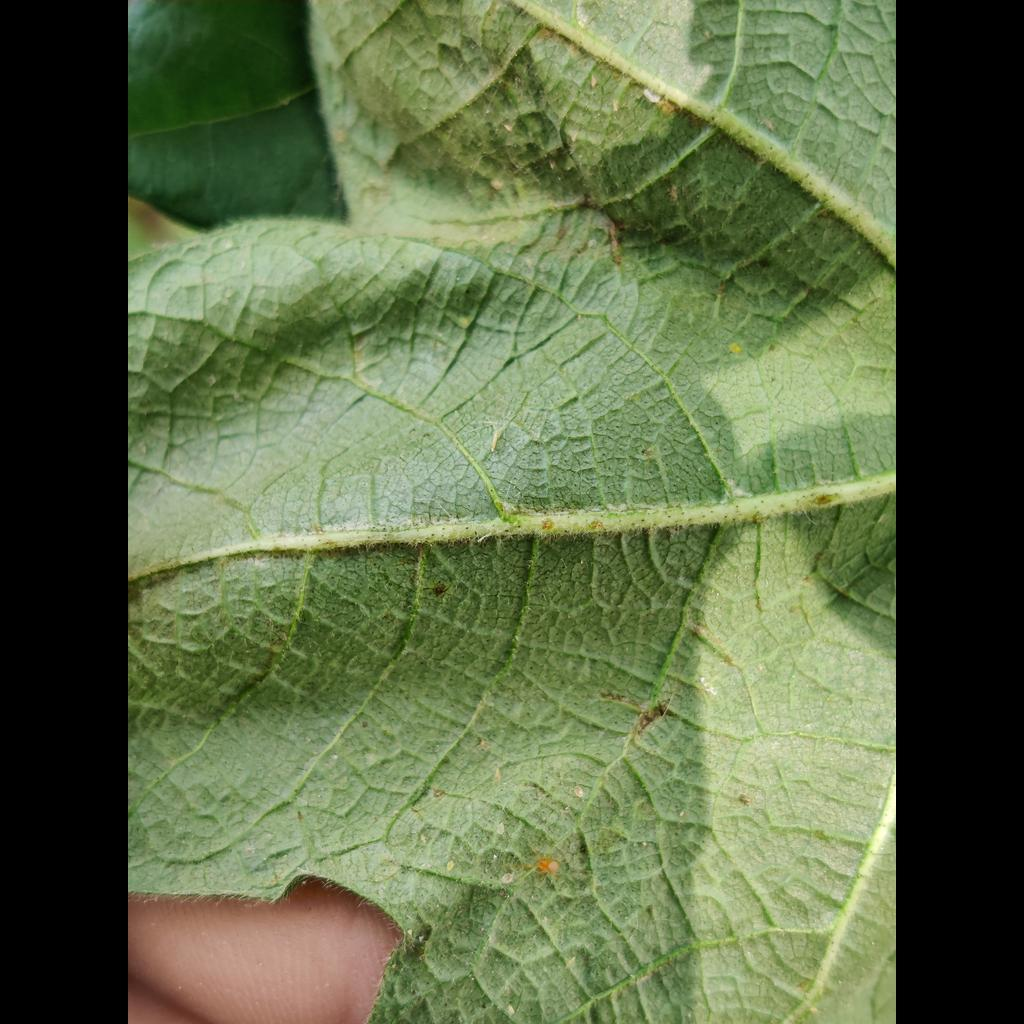nymph: (642, 90, 661, 104), (491, 178, 504, 191), (573, 785, 585, 798), (501, 873, 514, 883), (506, 1003, 516, 1015), (496, 823, 505, 834), (446, 860, 454, 871)
